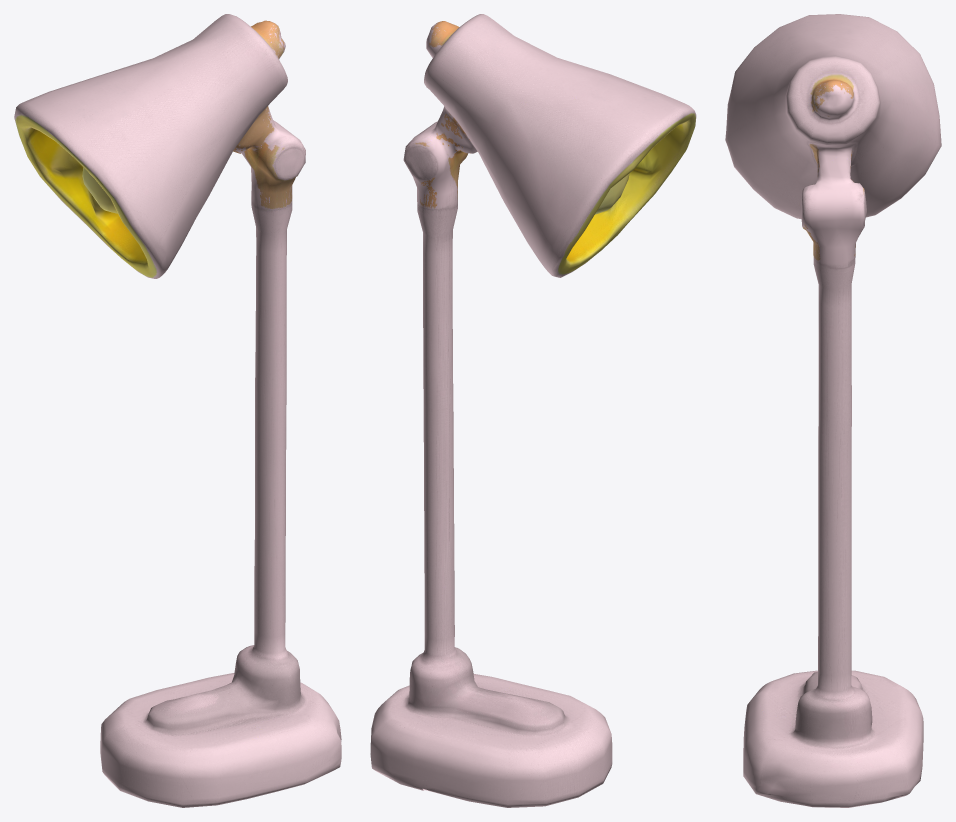
Rendered from lamp_desk_mint_c2.glb.
The picture shows the model from 3 angles, left to right: view 1: azimuth 30°, elevation 25°; view 2: azimuth 150°, elevation 25°; view 3: azimuth 270°, elevation 25°; orthographic projection. The views are drawn at different scales.
Size of the model in its own units: 0.8176 by 2 by 0.5519.
Materials: 1 (1 with a texture image).
